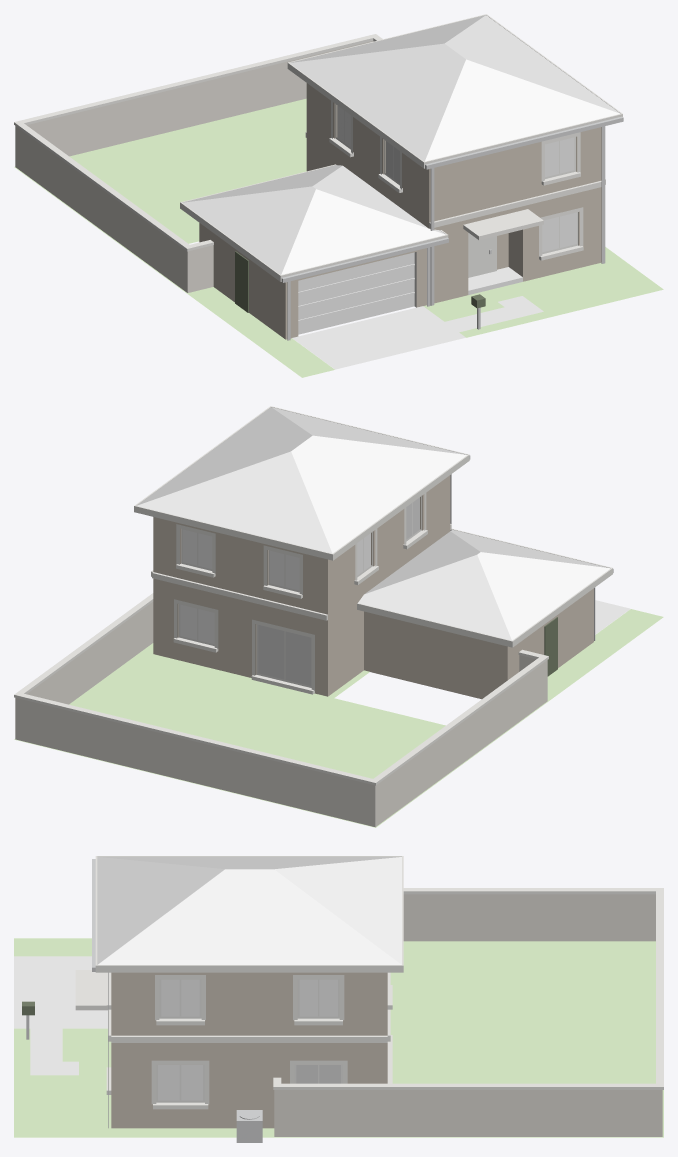
Rendered from house_tract258.glb.
3 renders of one model, top to bottom at view 1: azimuth 30°, elevation 25°; view 2: azimuth 150°, elevation 25°; view 3: azimuth 270°, elevation 25°, orthographic. The views are drawn at different scales.
Visible parts, largest first — view 1: house_tract258_Roof, house_tract258_Lawn, house_tract258_Walls, house_tract258_Walls2, house_tract258_Trim, house_tract258_Site, house_tract258_Doors, house_tract258_Details, house_tract258_Glass, house_tract258_Frames, house_tract258_Accent; view 2: house_tract258_Roof, house_tract258_Walls, house_tract258_Walls2, house_tract258_Lawn, house_tract258_Trim, house_tract258_Glass, house_tract258_WindowsLit, house_tract258_Frames, house_tract258_Accent, house_tract258_Site; view 3: house_tract258_Lawn, house_tract258_Roof, house_tract258_Walls2, house_tract258_Walls, house_tract258_Trim, house_tract258_Site, house_tract258_Glass, house_tract258_Details, house_tract258_Frames, house_tract258_WindowsLit.
Boxes of the visible parts, left/top/right/bottom form: house_tract258_Roof: left=182, top=15, right=620, bottom=274; house_tract258_Lawn: left=14, top=98, right=663, bottom=377; house_tract258_Walls: left=199, top=83, right=601, bottom=339; house_tract258_Walls2: left=15, top=40, right=373, bottom=292; house_tract258_Trim: left=14, top=14, right=622, bottom=307; house_tract258_Site: left=292, top=267, right=543, bottom=369; house_tract258_Doors: left=298, top=252, right=414, bottom=334; house_tract258_Details: left=281, top=116, right=623, bottom=340; house_tract258_Glass: left=337, top=105, right=576, bottom=252; house_tract258_Frames: left=335, top=104, right=578, bottom=277; house_tract258_Accent: left=235, top=251, right=485, bottom=312; house_tract258_Roof: left=136, top=407, right=610, bottom=640; house_tract258_Walls: left=153, top=475, right=593, bottom=699; house_tract258_Walls2: left=15, top=602, right=547, bottom=827; house_tract258_Lawn: left=14, top=609, right=663, bottom=827; house_tract258_Trim: left=14, top=406, right=612, bottom=785; house_tract258_Glass: left=180, top=529, right=370, bottom=644; house_tract258_WindowsLit: left=258, top=497, right=419, bottom=685; house_tract258_Frames: left=178, top=496, right=421, bottom=687; house_tract258_Accent: left=544, top=617, right=557, bottom=676; house_tract258_Site: left=595, top=600, right=630, bottom=634; house_tract258_Lawn: left=14, top=938, right=663, bottom=1137; house_tract258_Roof: left=97, top=857, right=401, bottom=964; house_tract258_Walls2: left=274, top=894, right=662, bottom=1136; house_tract258_Walls: left=111, top=972, right=387, bottom=1128; house_tract258_Trim: left=75, top=856, right=663, bottom=1109; house_tract258_Site: left=14, top=956, right=107, bottom=1075; house_tract258_Glass: left=158, top=979, right=337, bottom=1100; house_tract258_Details: left=26, top=859, right=262, bottom=1142; house_tract258_Frames: left=156, top=979, right=342, bottom=1102; house_tract258_WindowsLit: left=296, top=1065, right=340, bottom=1083.
Bounding box in the file's own units: 59.5 × 28.69 × 80.
